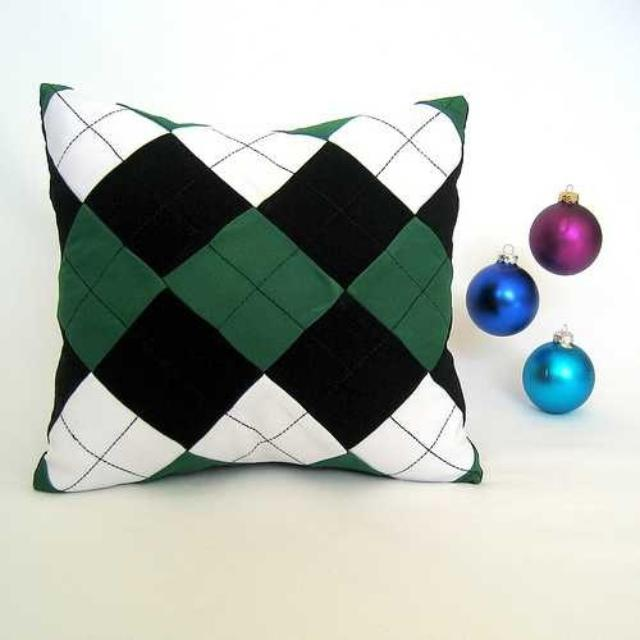pillow: (32, 81, 484, 493)
